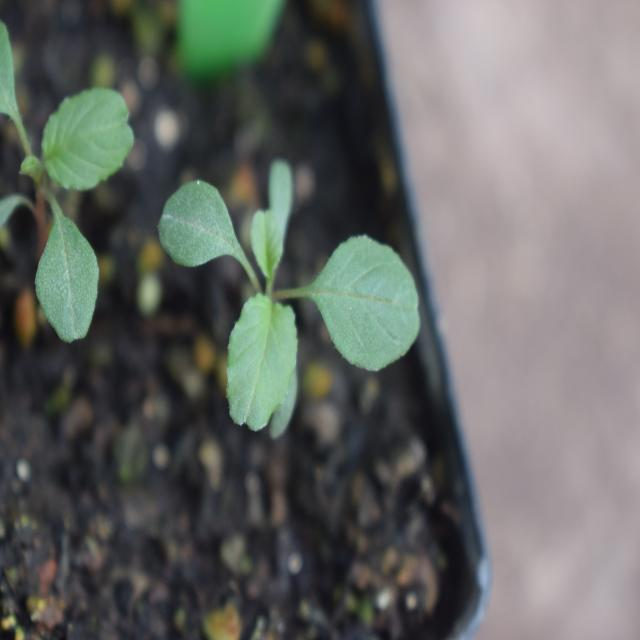pigweed: (152, 146, 424, 442)
